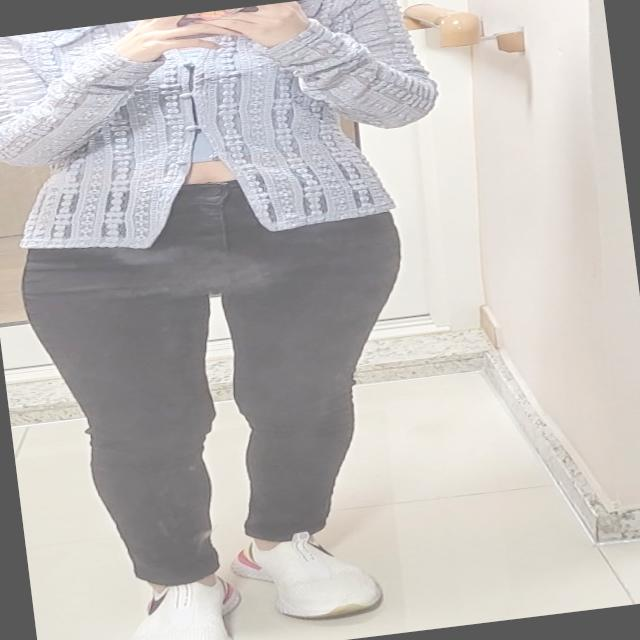cardigan: (0, 0, 448, 269)
denimpants: (9, 157, 440, 594)
